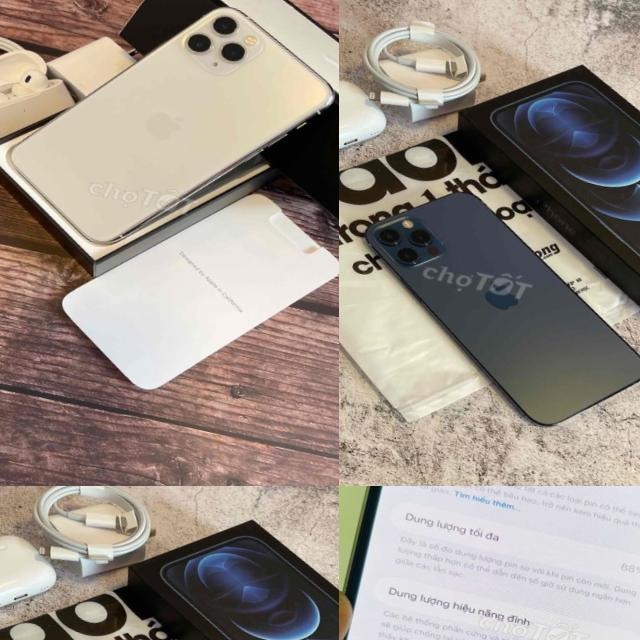gen_11: (0, 0, 339, 288)
gen_12_13: (339, 168, 640, 454)
gen_14: (339, 486, 640, 640)
